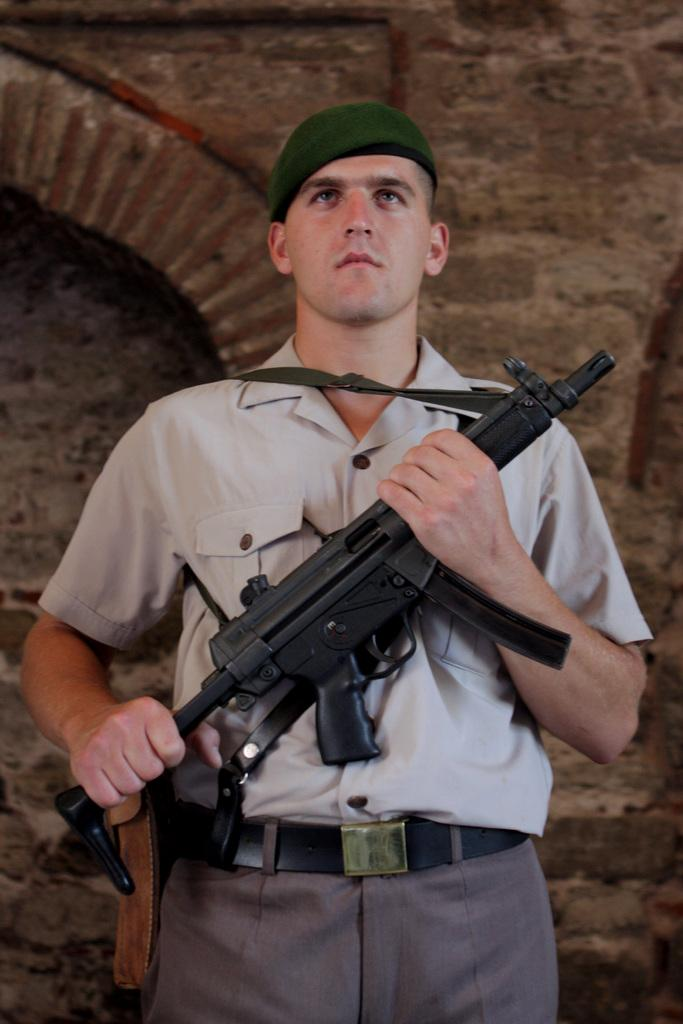Rifle: (48, 346, 619, 900)
